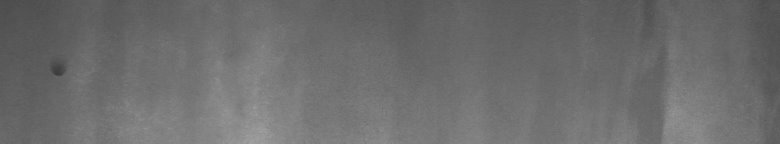fi: (50, 60, 71, 80)
